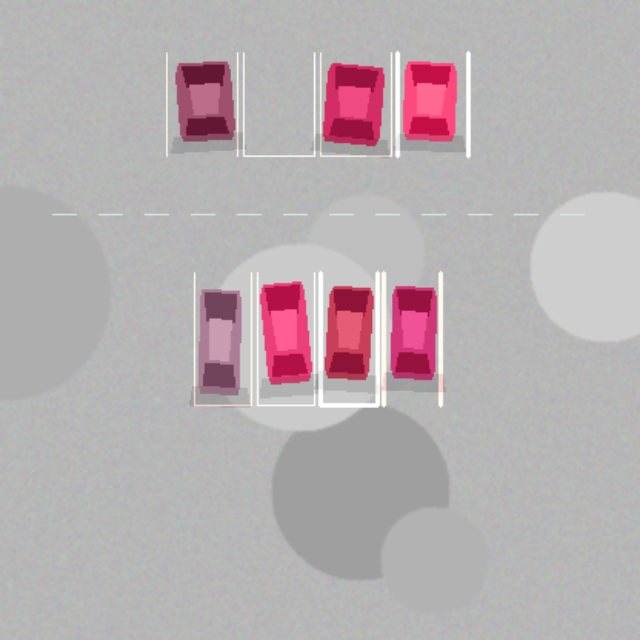space-empty: (243, 52, 314, 155)
space-occupied: (194, 272, 251, 405), (257, 272, 314, 405), (320, 272, 377, 405), (383, 272, 440, 405), (166, 52, 237, 155), (320, 52, 391, 155), (397, 52, 468, 155)
